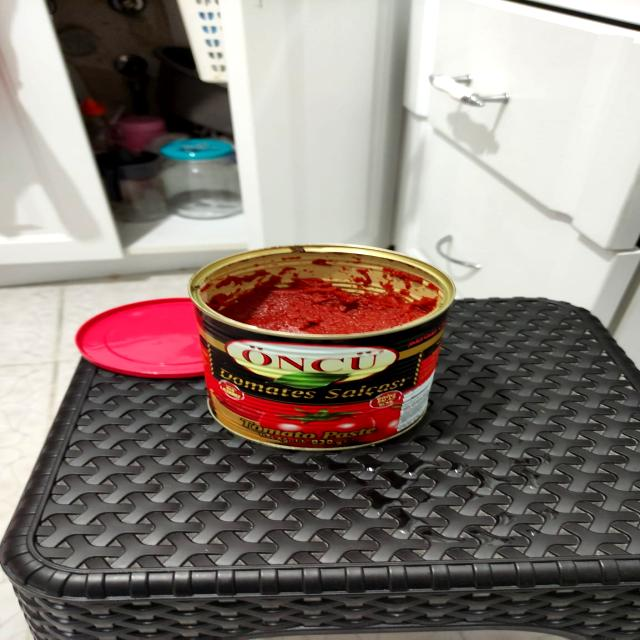tomato paste: (179, 236, 486, 458)
